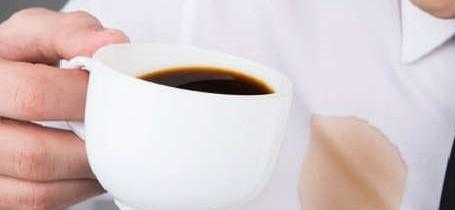gun: (307, 110, 407, 209)
